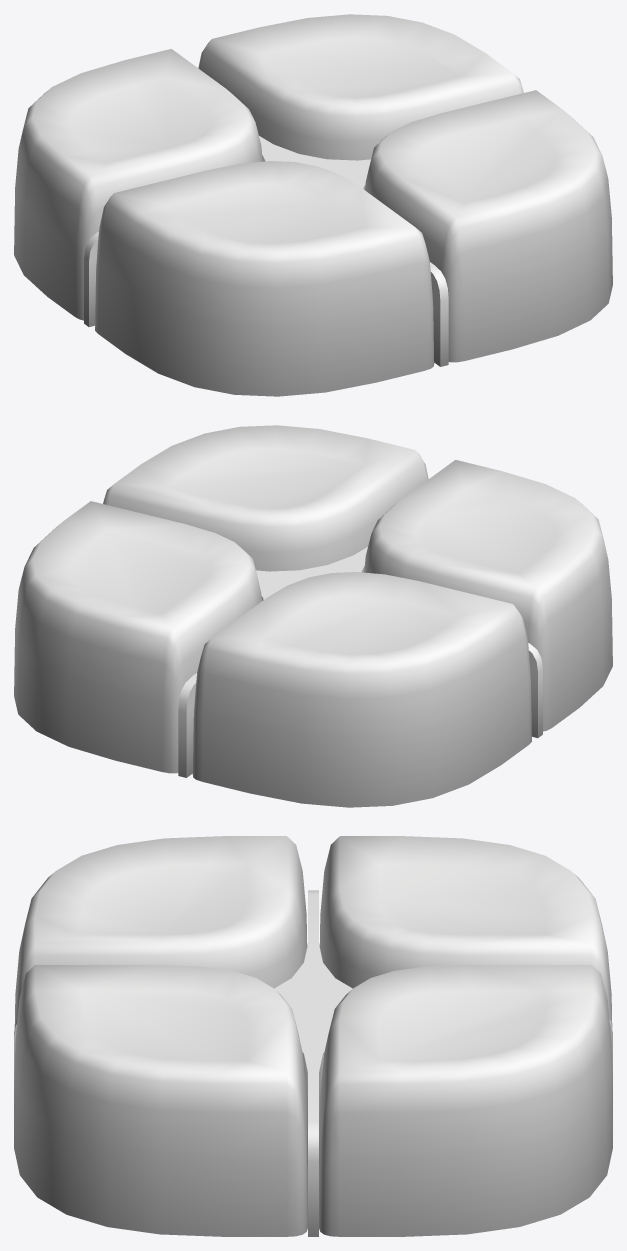
File: baseModulerSmooth.fbx
The picture shows the model from 3 angles, top to bottom: view 1: azimuth 30°, elevation 25°; view 2: azimuth 150°, elevation 25°; view 3: azimuth 270°, elevation 25°; orthographic projection. The views are drawn at different scales.
Parts seen in each view (by area): view 1: Base; view 2: Base; view 3: Base.
Part boxes in pixels (x1,y1,x2,y2): Base: [14, 14, 612, 396]; Base: [14, 425, 612, 807]; Base: [14, 836, 612, 1236].
Bounding box in the file's own units: 998 × 288 × 998.
